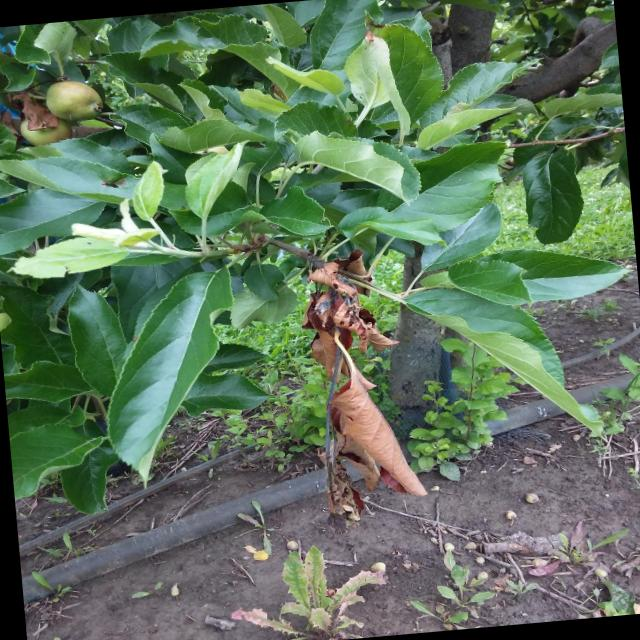-FireBlight-: (298, 252, 430, 524)
